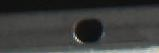holes: (72, 16, 104, 43)
